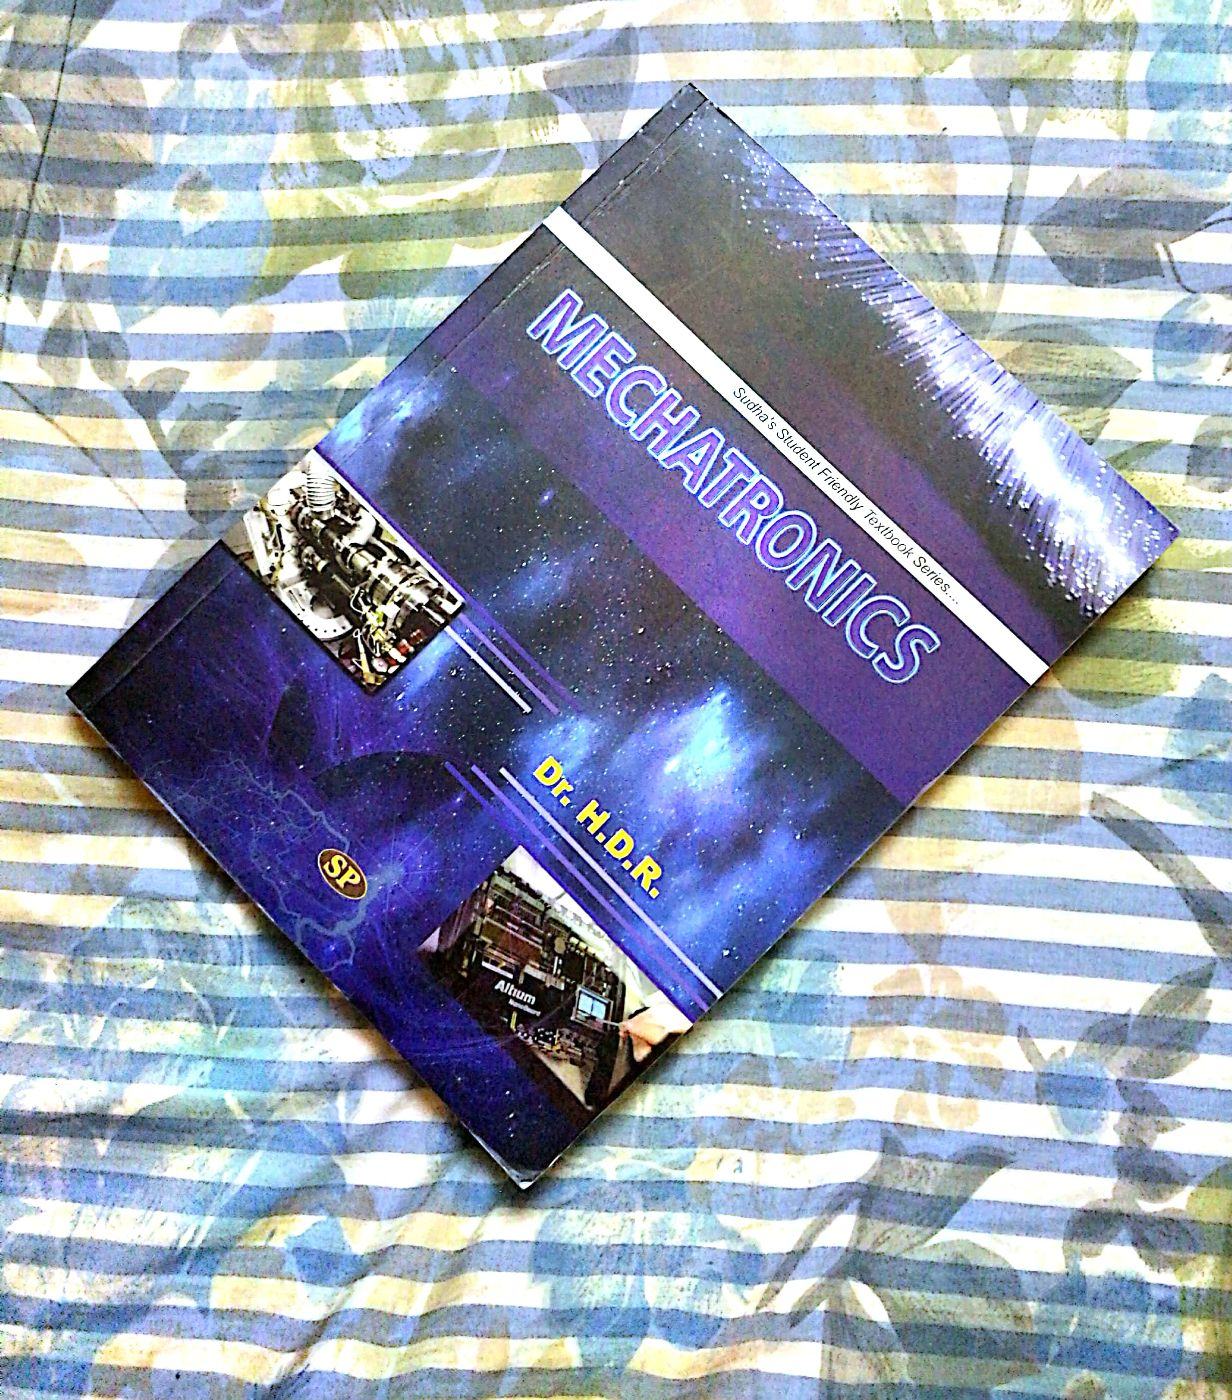mechatronics: (124, 87, 1121, 1149)
